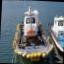fishing boat: (10, 3, 56, 62)
